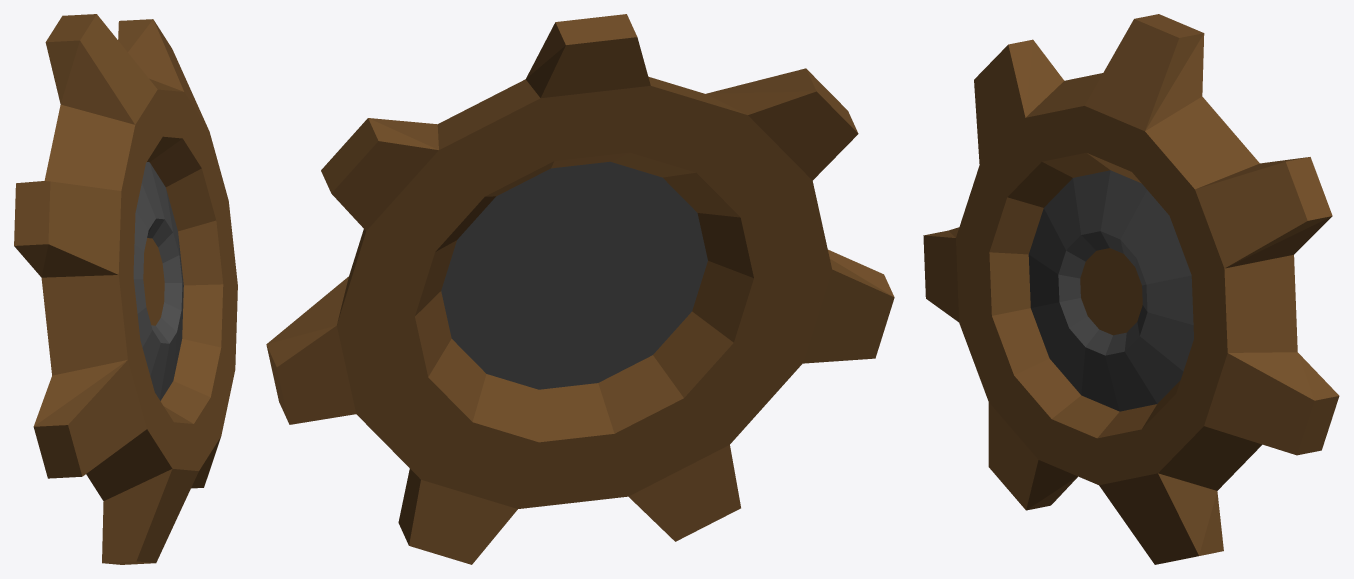
The model's file is Gear Shield.fbx.
3 views of the same model, side by side, from view 1: azimuth 30°, elevation 25°; view 2: azimuth 150°, elevation 25°; view 3: azimuth 270°, elevation 25° (orthographic). The views are drawn at different scales.
Visible parts, largest first — view 1: Cylinder003; view 2: Cylinder003; view 3: Cylinder003.
Part boxes in pixels (x1=…): Cylinder003: x1=14, y1=14, x2=237, y2=564; Cylinder003: x1=266, y1=14, x2=894, y2=564; Cylinder003: x1=923, y1=14, x2=1339, y2=564.
Size of the model in its own units: 16.25 by 20.98 by 16.25.
